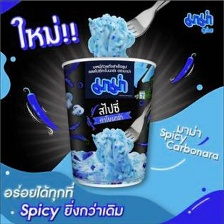paper_cup: (55, 52, 161, 191)
